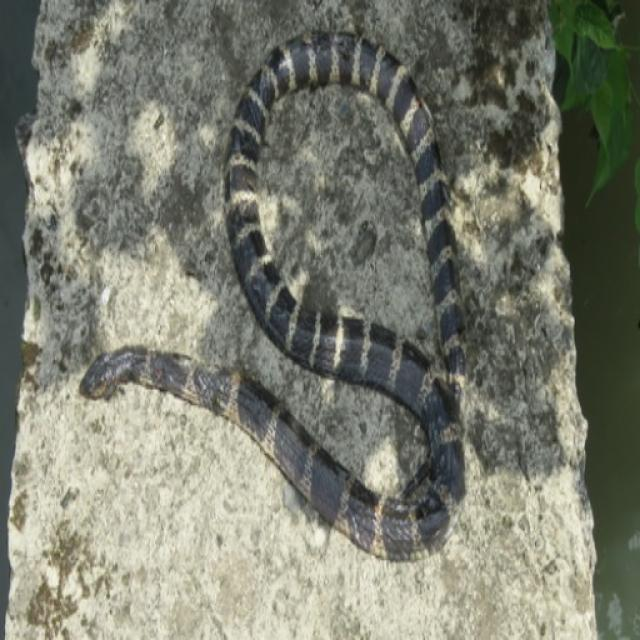snake: (86, 29, 554, 571)
